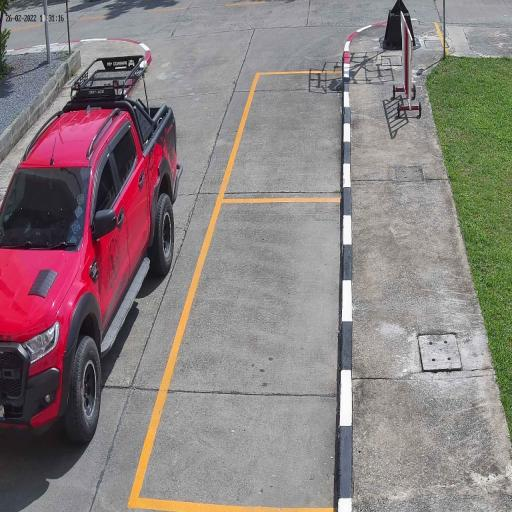car: (0, 104, 178, 444)
